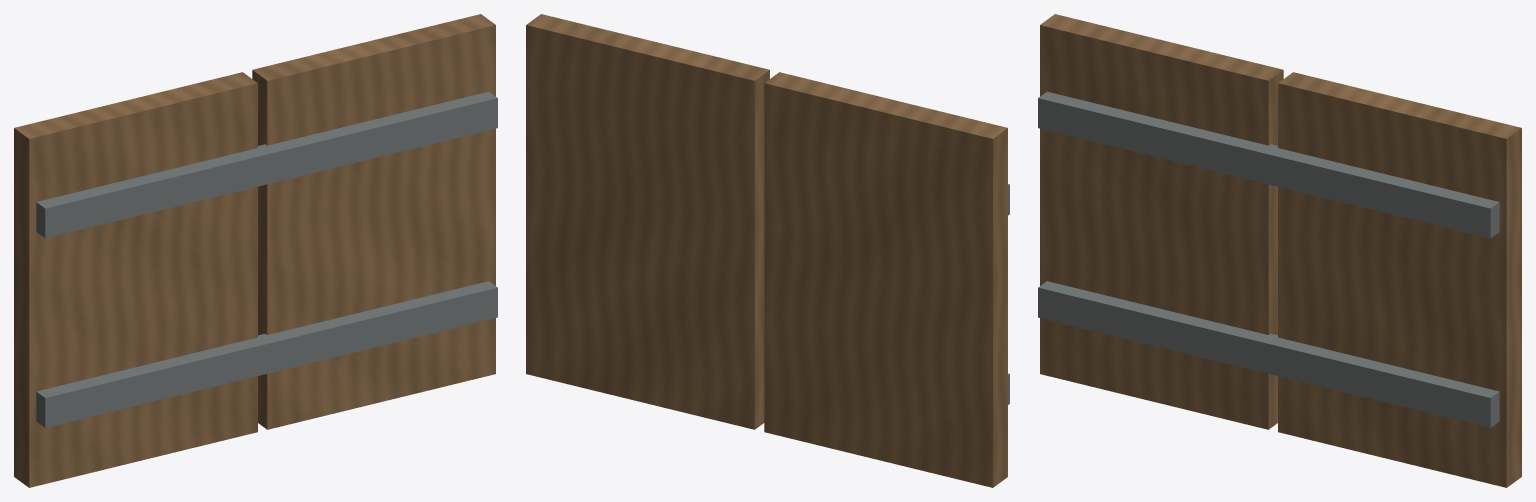
Rendered from shutter_1m.glb.
The picture shows the model from 3 angles, left to right: view 1: azimuth 30°, elevation 25°; view 2: azimuth 150°, elevation 25°; view 3: azimuth 330°, elevation 25°; orthographic projection.
Parts seen in each view (by area): view 1: shutter_1m; view 2: shutter_1m; view 3: shutter_1m.
Part boxes in pixels (bbox=[...]): shutter_1m: bbox=[14, 14, 497, 487]; shutter_1m: bbox=[526, 14, 1009, 487]; shutter_1m: bbox=[1038, 14, 1521, 487].
Size of the model in its own units: 0.98 by 0.7 by 0.0875.
Materials: 2 (1 with a texture image).
